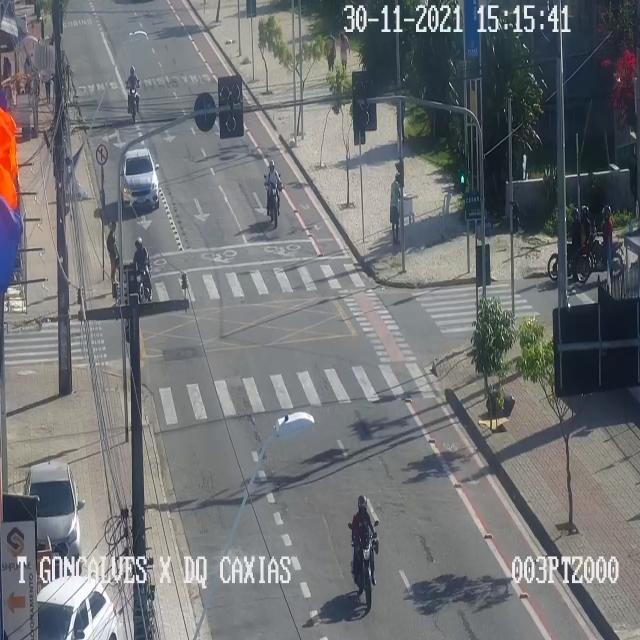Car: (23, 463, 81, 573), (37, 575, 117, 639), (120, 148, 158, 206)
Motorcycle: (576, 204, 622, 280), (547, 207, 591, 279), (351, 494, 377, 607), (132, 237, 152, 303), (264, 159, 282, 227), (126, 65, 140, 122)
